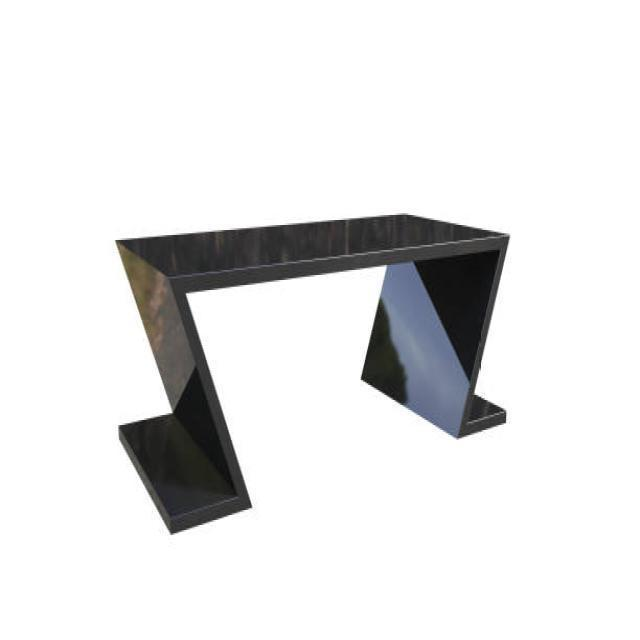table: (113, 210, 510, 534)
